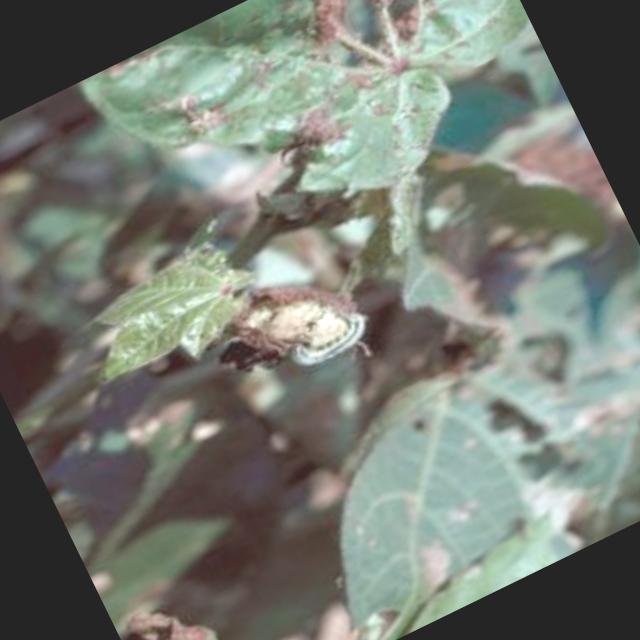Beet armyworm: (250, 267, 412, 423)
